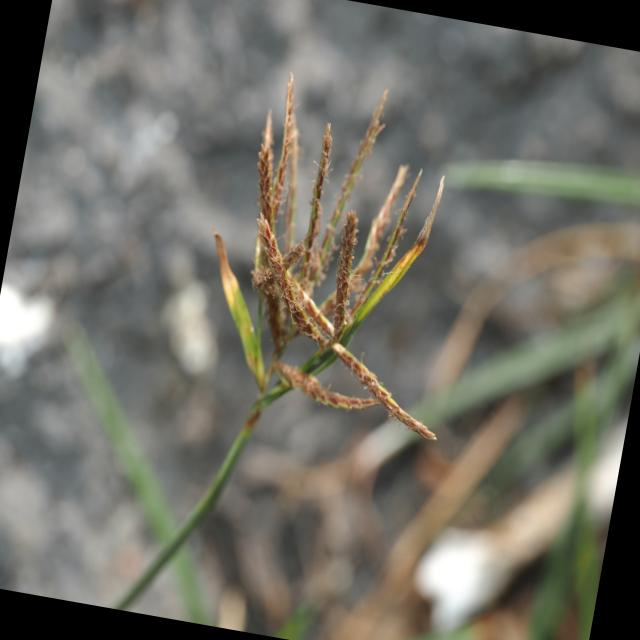cyperus: (180, 50, 504, 462)
